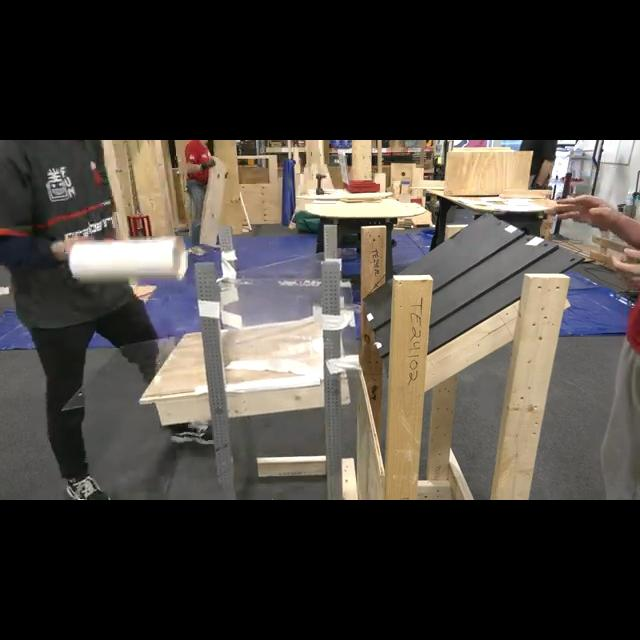CORAL: (68, 234, 188, 282)
